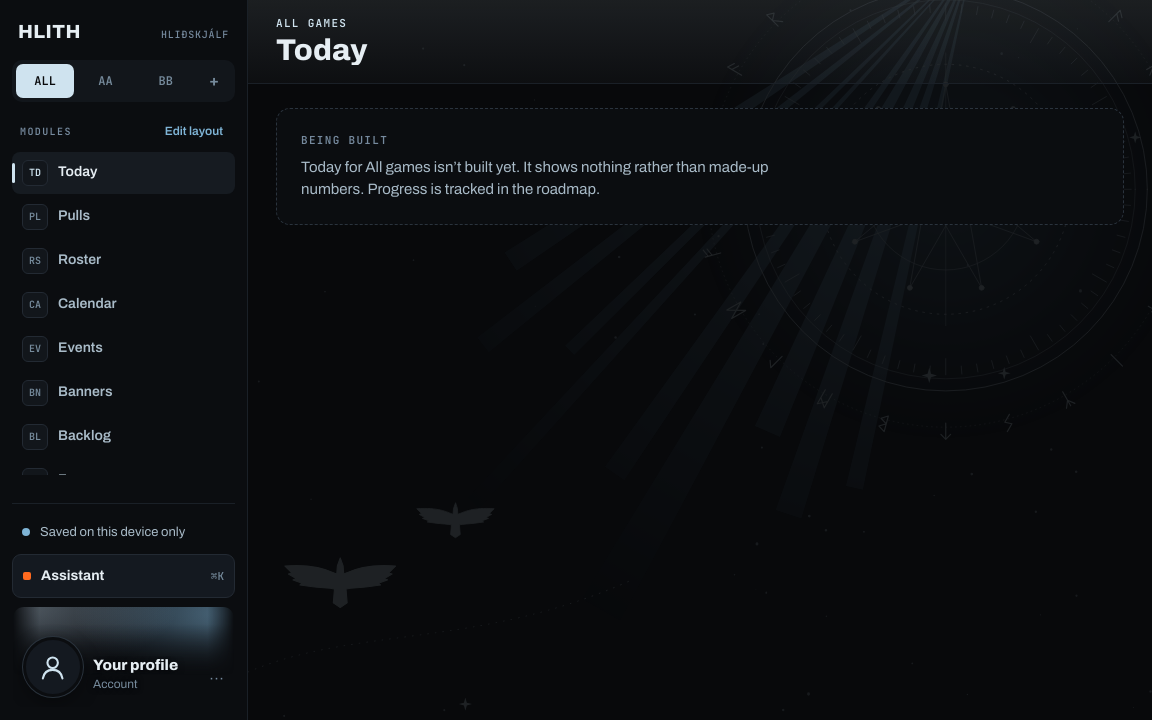
Test case: Your games › turning a game off removes it from the switcher but never the last one
The image size is (1152, 720).
Click the button named "Choose which games show": (214, 80) [197,64,231,98]
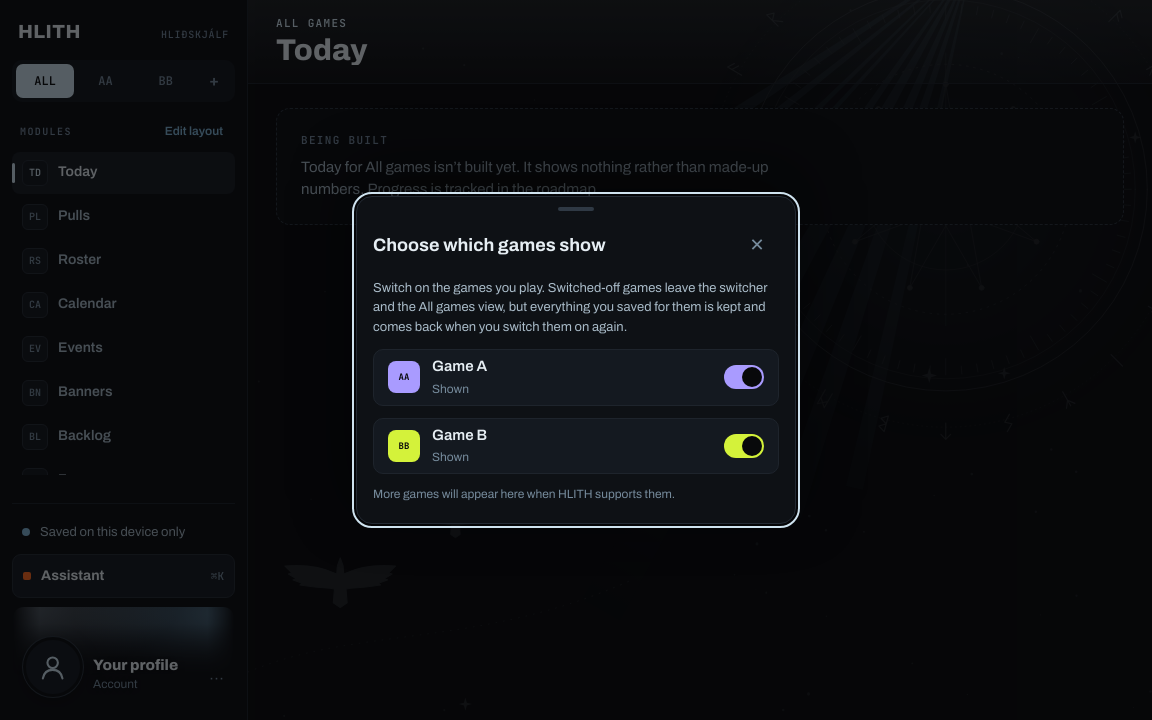
Expected: the dialog "Choose which games show" is shown, [356,196,796,524]
Click the switch named "Game B": (744, 446) [724,434,764,458]
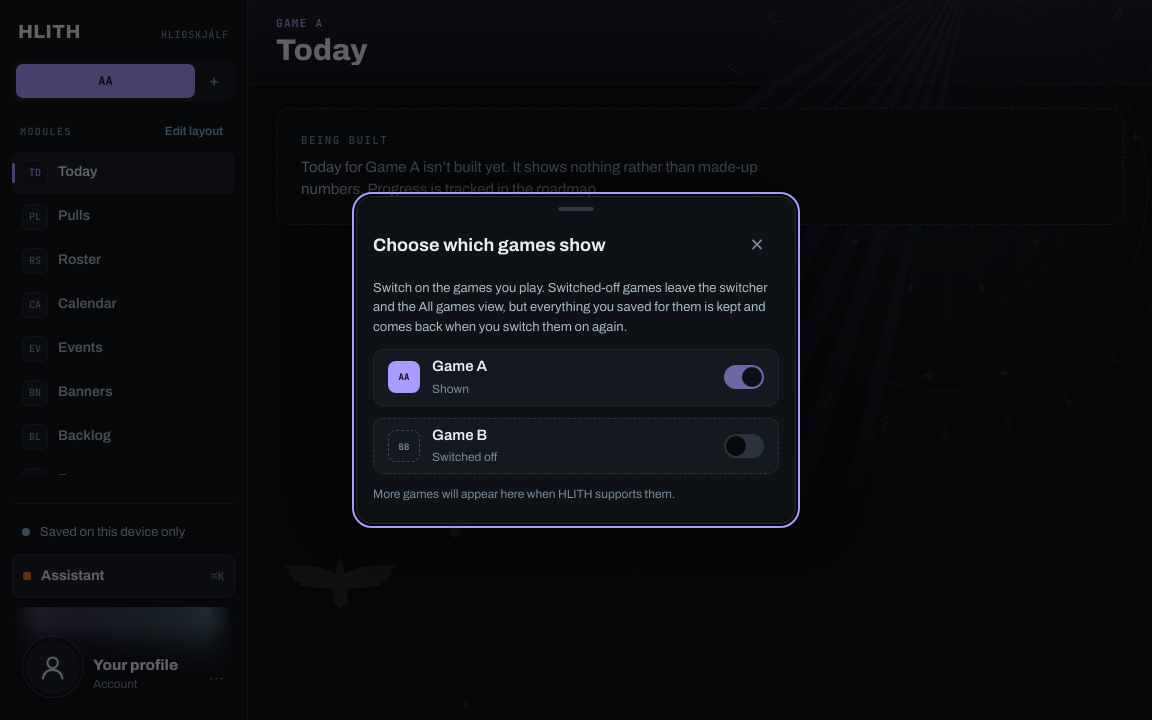
Expected: the switch named "Game A" is disabled, [724,366,764,390]
